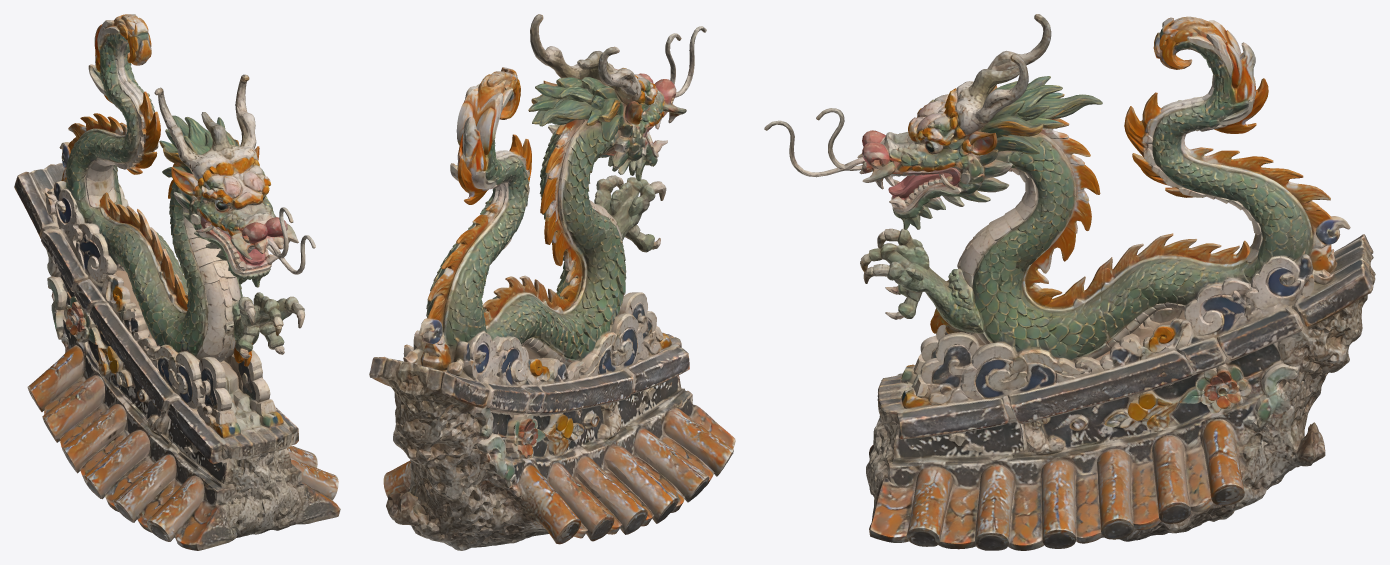
The model's file is hall.glb.
The picture shows the model from 3 angles, left to right: view 1: azimuth 30°, elevation 25°; view 2: azimuth 150°, elevation 25°; view 3: azimuth 270°, elevation 25°; orthographic projection. The views are drawn at different scales.
Visible parts, largest first — view 1: model; view 2: model; view 3: model.
Boxes of the visible parts, box(x1,y1,x2,y2) form: model: box(14, 14, 340, 550); model: box(369, 14, 735, 550); model: box(764, 14, 1375, 550).
Bounding box in the file's own units: 0.8213 × 1.66 × 1.9.
Materials: 1 (1 with a texture image).
